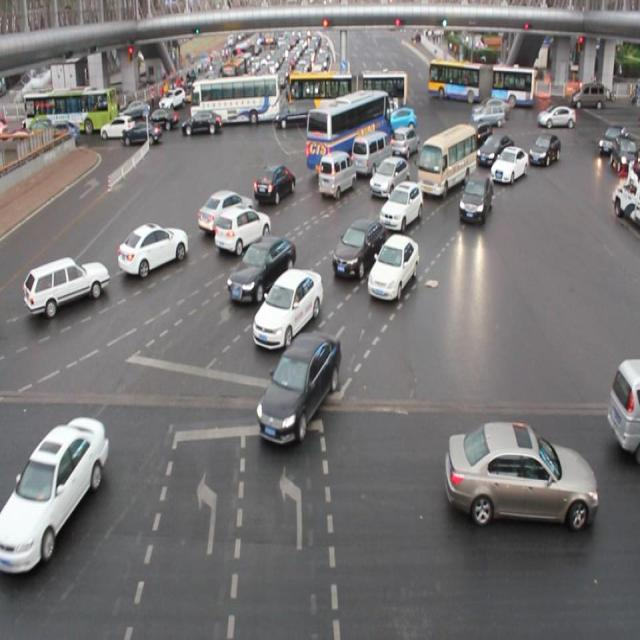car: (1, 411, 110, 583), (446, 414, 597, 530), (256, 329, 342, 447), (252, 270, 324, 349), (23, 254, 109, 318), (228, 236, 296, 304), (117, 220, 188, 278), (368, 233, 420, 303), (333, 216, 386, 277), (196, 187, 254, 235), (215, 206, 270, 255), (380, 184, 422, 230), (368, 153, 408, 199), (458, 173, 492, 224), (254, 163, 296, 203), (489, 145, 527, 187), (476, 133, 515, 167), (526, 133, 560, 166), (390, 125, 419, 161), (459, 120, 493, 150)
truck: (603, 354, 640, 474), (419, 126, 475, 193), (351, 131, 394, 177), (317, 152, 356, 196)
van: (306, 90, 392, 174)
